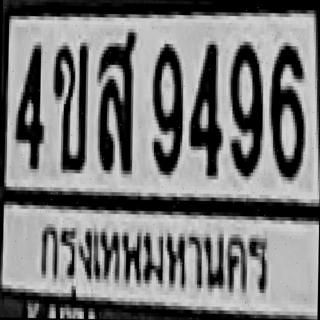A02: (49, 38, 86, 170)
A40: (95, 28, 134, 170)
N04: (188, 35, 220, 174), (13, 41, 43, 165)
N06: (268, 40, 303, 175)
N09: (227, 38, 262, 173), (149, 40, 182, 171)
P04: (36, 213, 274, 308)
